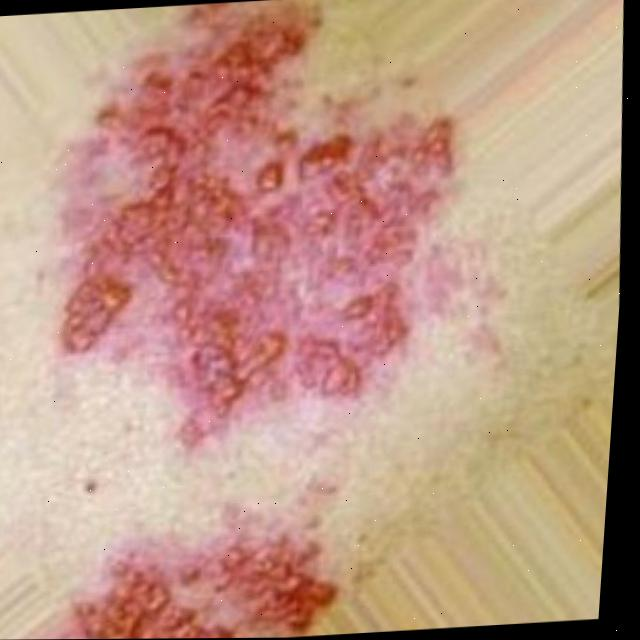Shingles: (29, 10, 483, 460), (73, 511, 348, 639)
